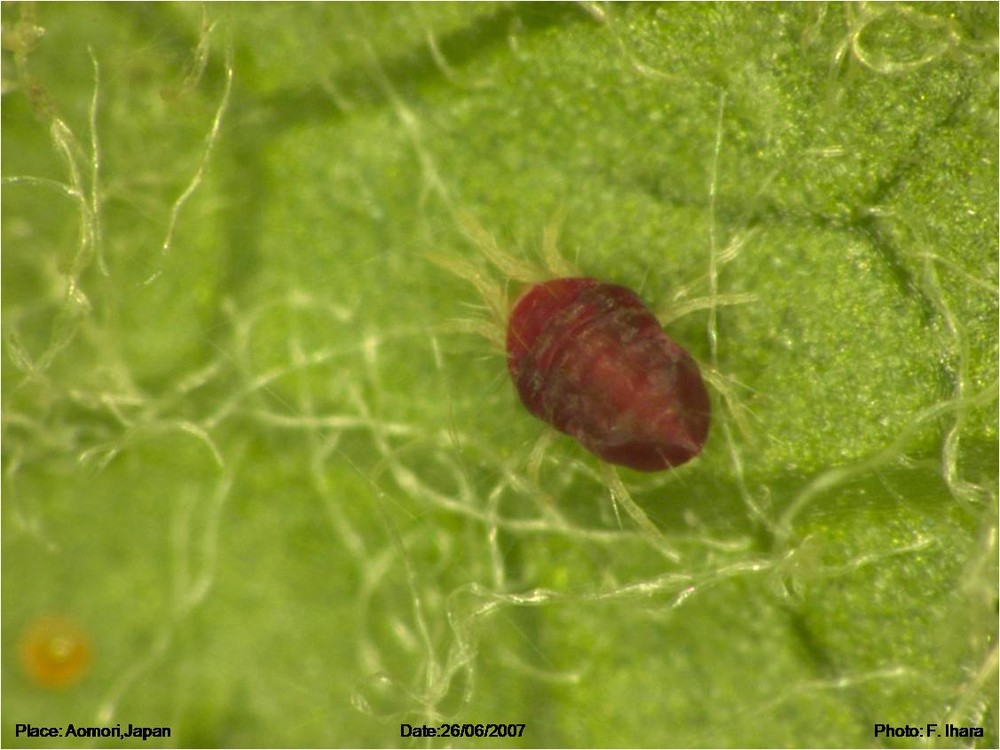Aracnido Rojo: (420, 202, 784, 527)
